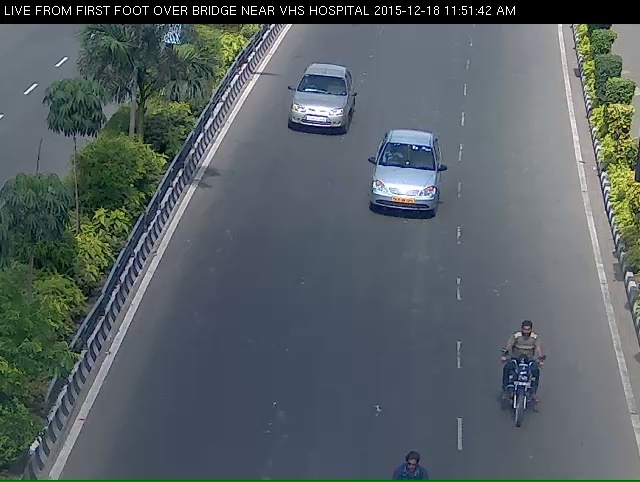Car: (367, 142, 445, 241), (274, 74, 348, 151)
Person: (497, 352, 557, 461)
